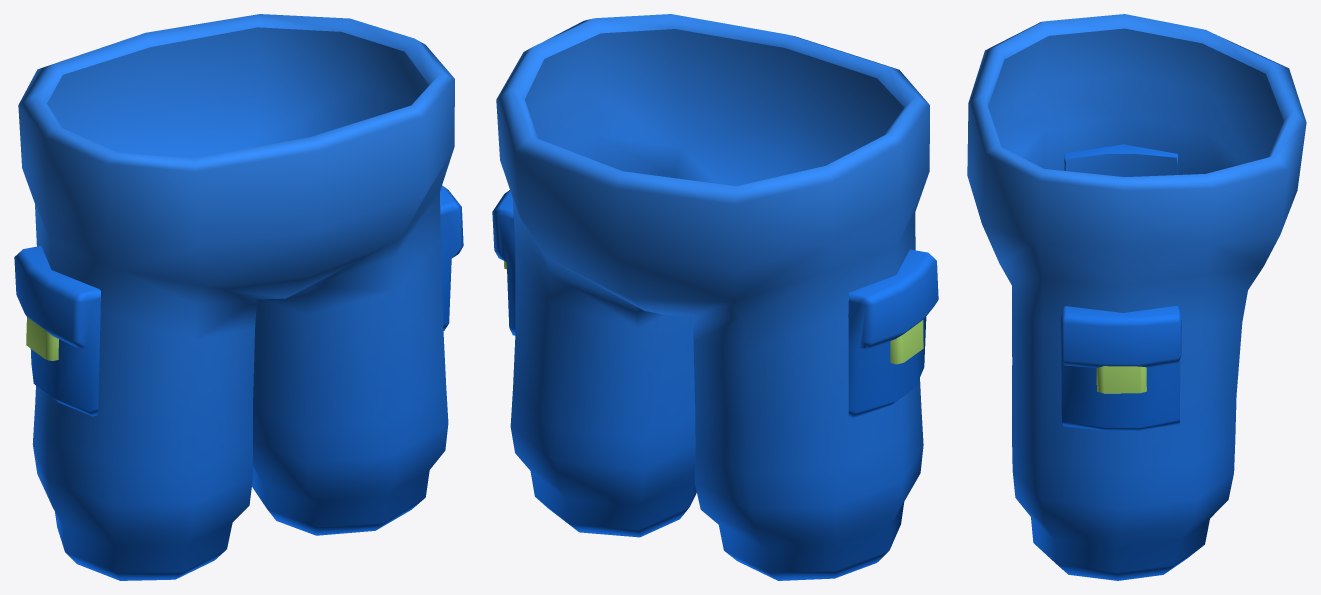
The model's file is Bottom_9.fbx.
3 views of the same model, side by side, from view 1: azimuth 30°, elevation 25°; view 2: azimuth 150°, elevation 25°; view 3: azimuth 270°, elevation 25° (orthographic). The views are drawn at different scales.
Visible parts, largest first — view 1: Bottom_9; view 2: Bottom_9; view 3: Bottom_9.
Boxes of the visible parts, x1,y1,x2,y2 form: Bottom_9: [14, 14, 463, 580]; Bottom_9: [492, 14, 938, 580]; Bottom_9: [967, 14, 1306, 580].
Bounding box in the file's own units: 40.61 × 42.66 × 31.42.
